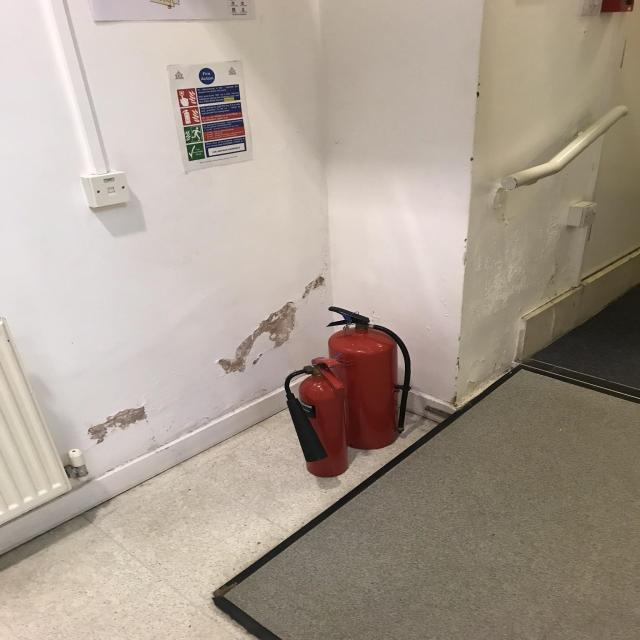fire_extinguisher: (319, 304, 413, 452), (284, 352, 351, 481)
